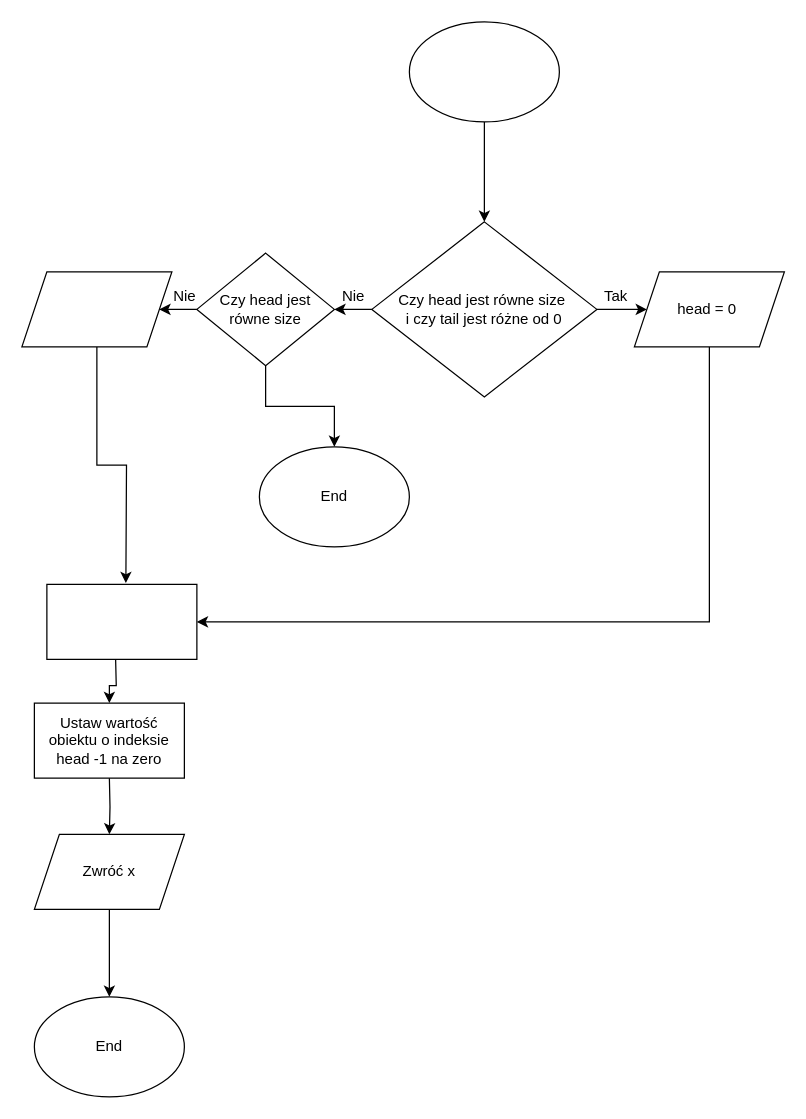
The diagram is 806 pixels wide and 1119 high, and some of its shapes have lost their labels. Each missing label, with the centre of its shape:
przypisz wartość obiektu o indeksie head - 1 do x: the point at 121,621
Start: the point at 483,71
zwiększ head o 1: the point at 96,309
